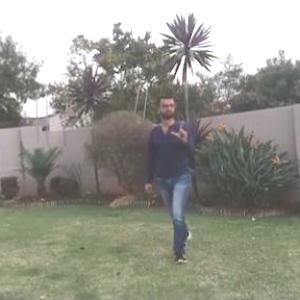land_hand: (167, 114, 192, 147)
